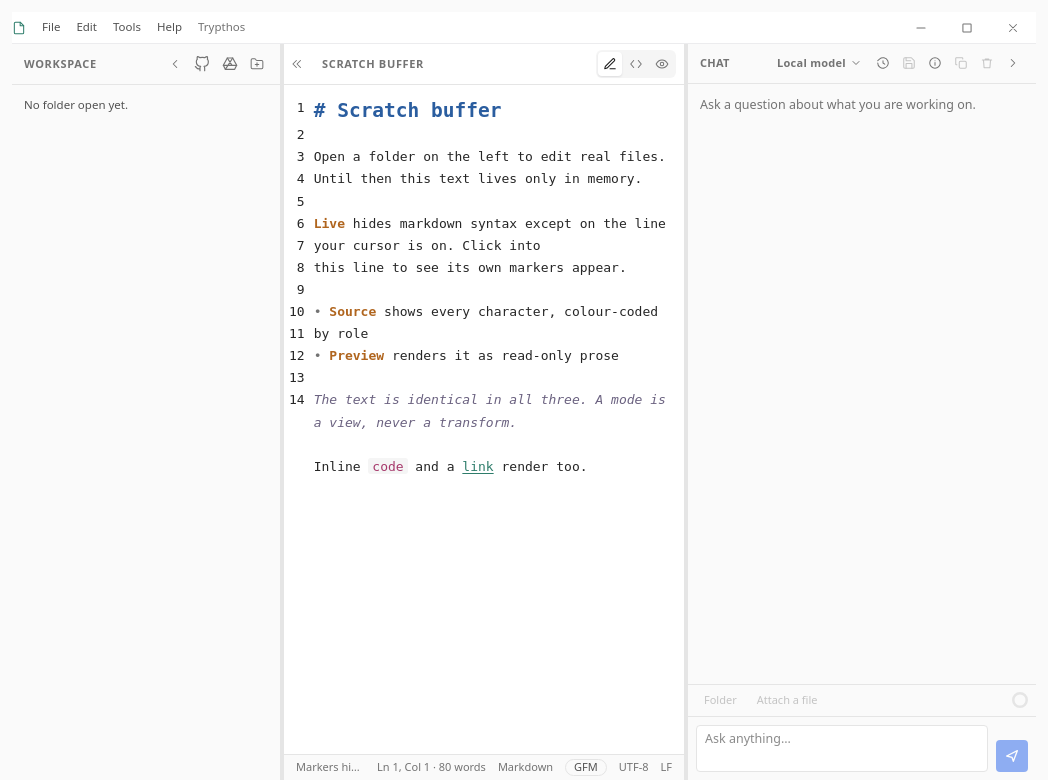
it: slash commands › answers /tools without asking a model
In the text box named "Message": (842, 748) top-left (696, 724), bottom-right (988, 772), type "/tools"
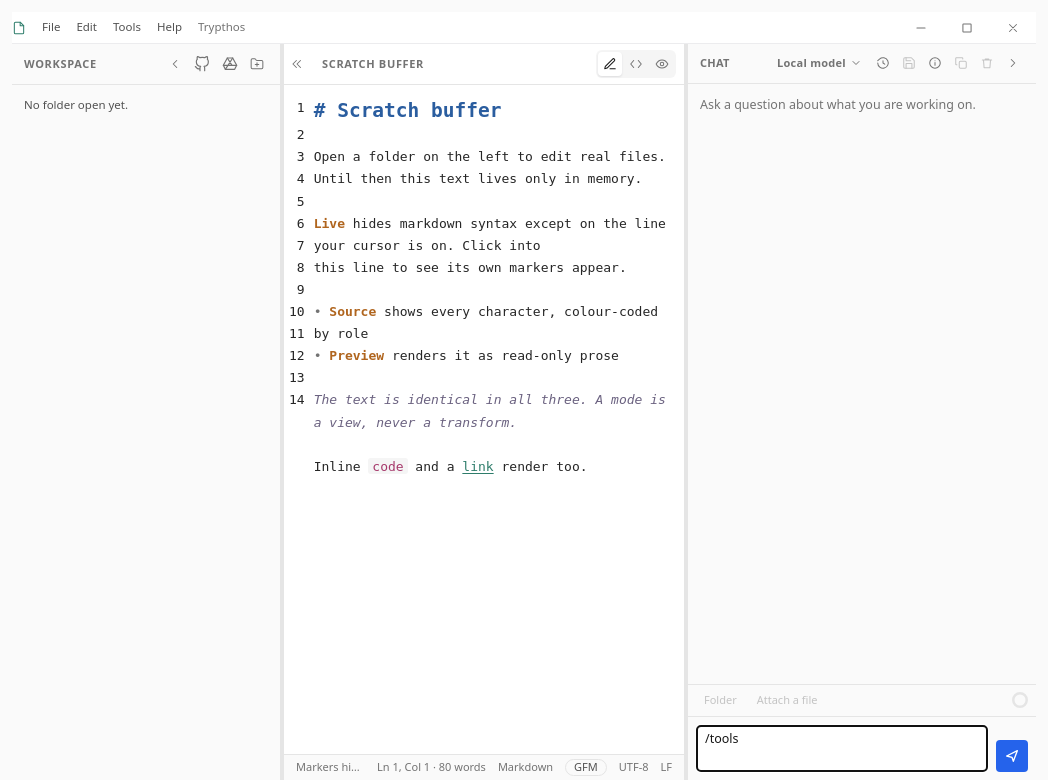
Click the button named "Send": click(1012, 756) top-left (996, 740), bottom-right (1028, 772)
(page scrolled)
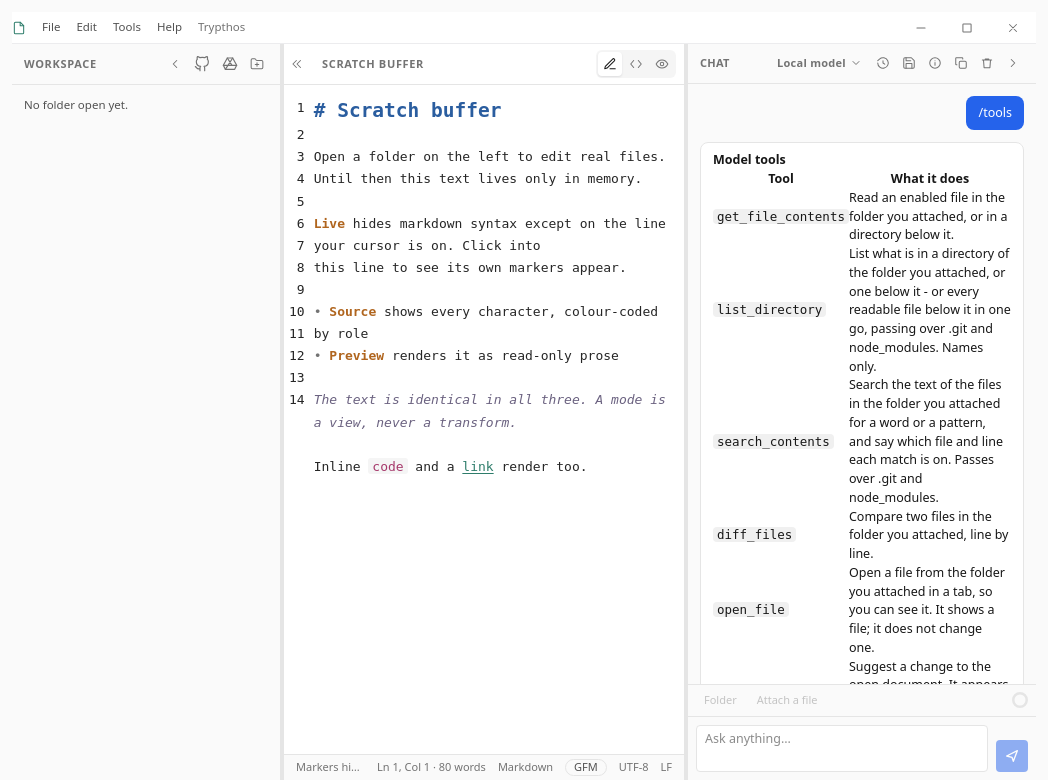
Now the text "Model tools" is shown, box top-left (713, 151), bottom-right (786, 168)
Now the text "get_file_contents" is shown, box top-left (713, 209), bottom-right (849, 224)
